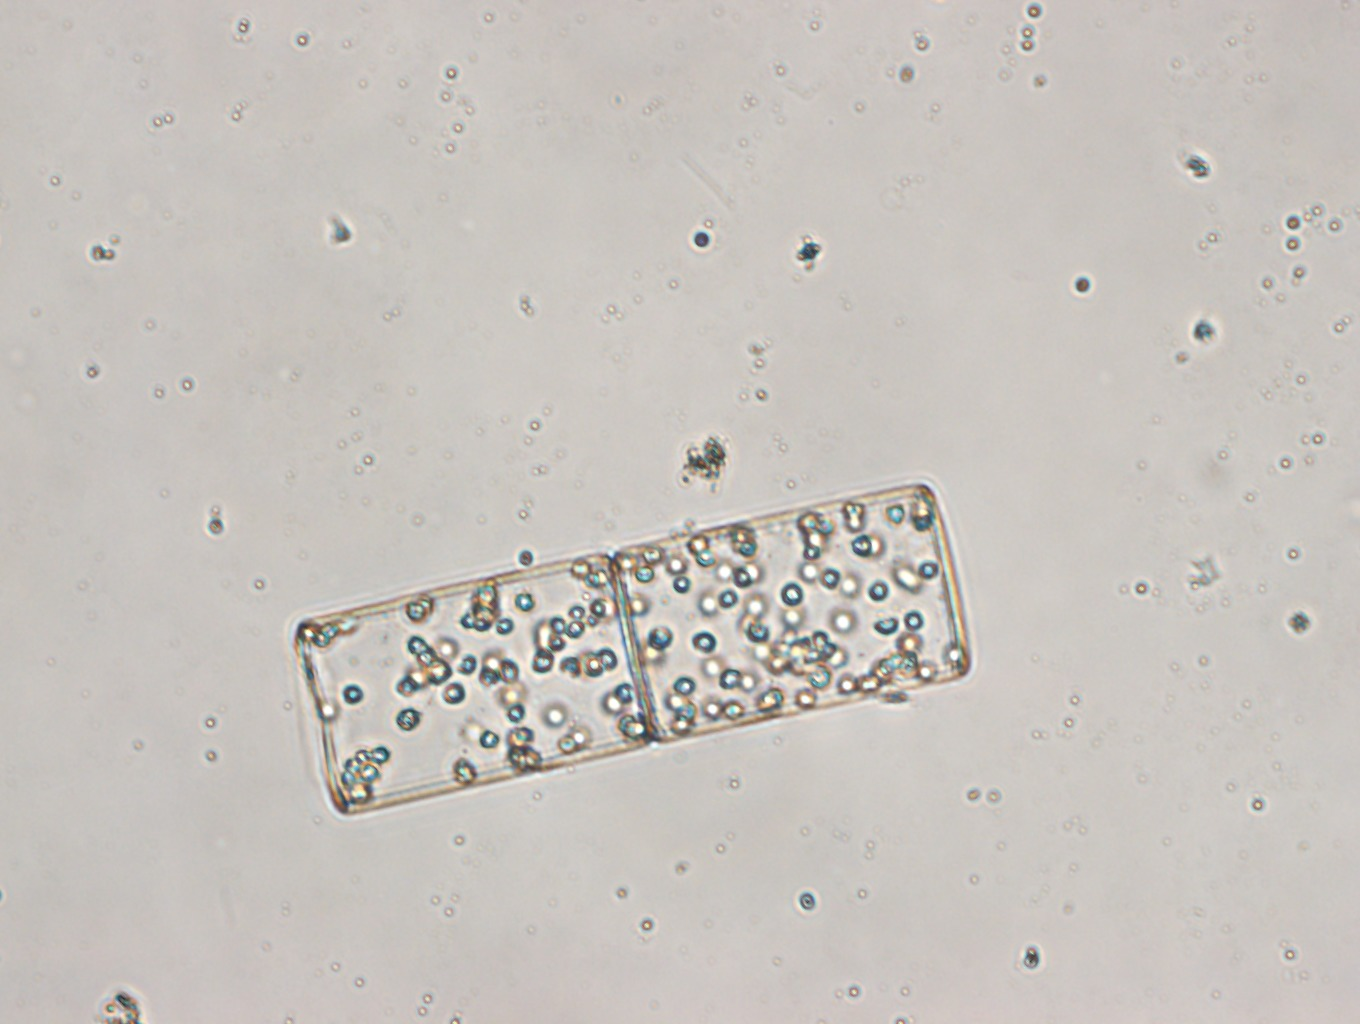guinardia flaccida: (287, 479, 978, 820)
